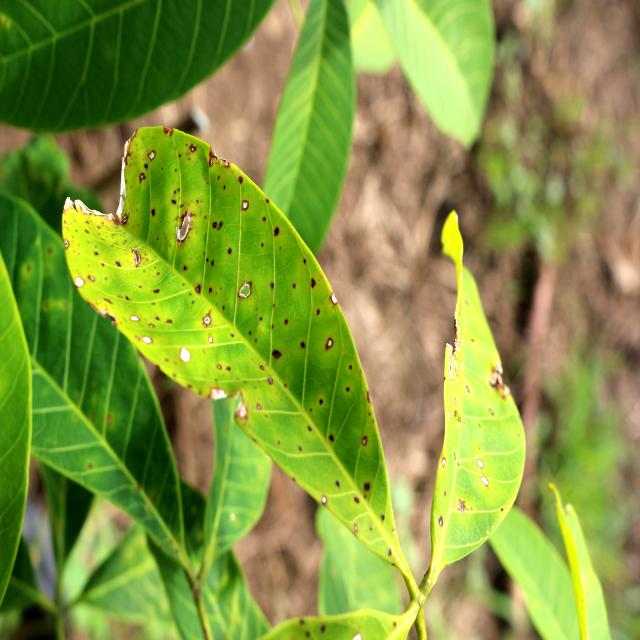Colletotrichum: (325, 337, 334, 350), (147, 150, 156, 161), (481, 476, 489, 486), (242, 200, 249, 211), (361, 436, 367, 446), (478, 459, 483, 469), (212, 221, 218, 229), (439, 516, 443, 526), (195, 286, 200, 294), (228, 248, 232, 254)
